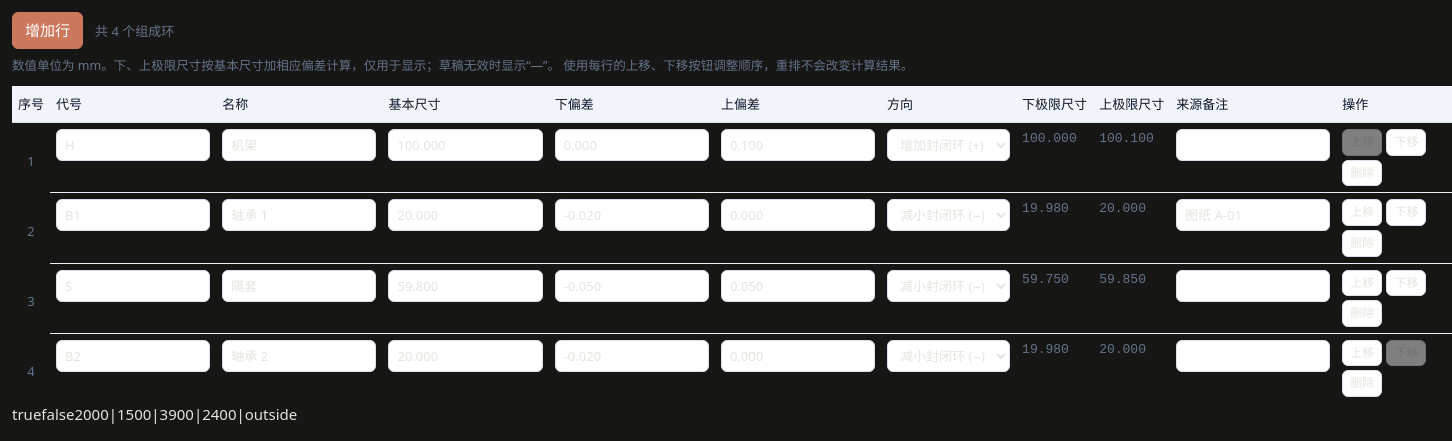
Scenario: DimensionTable：方向、重排与确认状态 › 修改方向会清除关系确认并按新方向重算
Select "减小封闭环 (−)" in the dropdown named "H 方向" at (949, 145), box [887,129,1010,161]
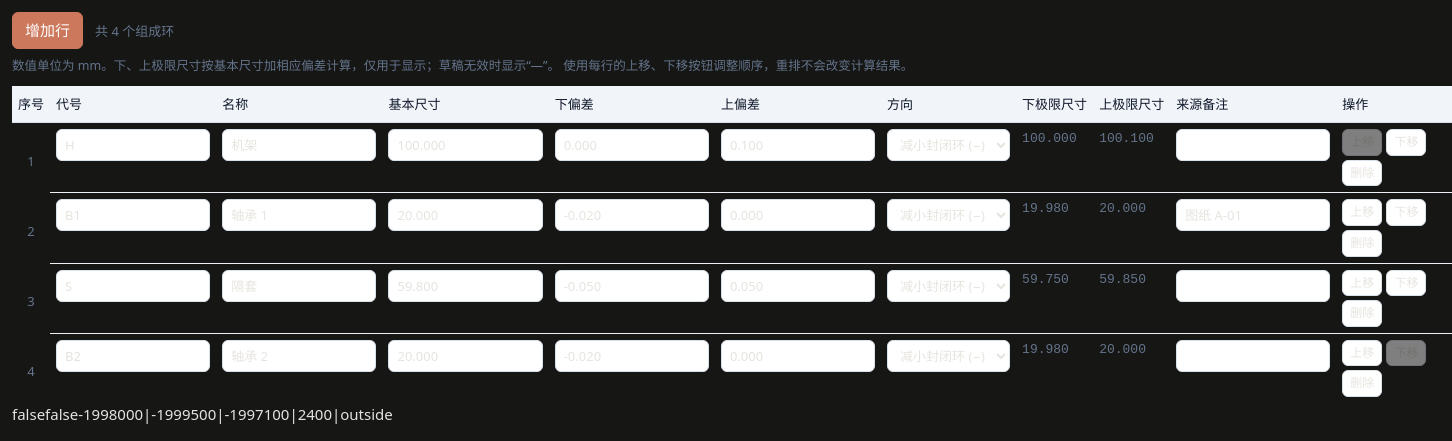
Check: the text with test id "stale" reads "false", box [45,404,78,424]
Check: the text with test id "relation-confirmed" reads "false", box [12,404,45,424]
